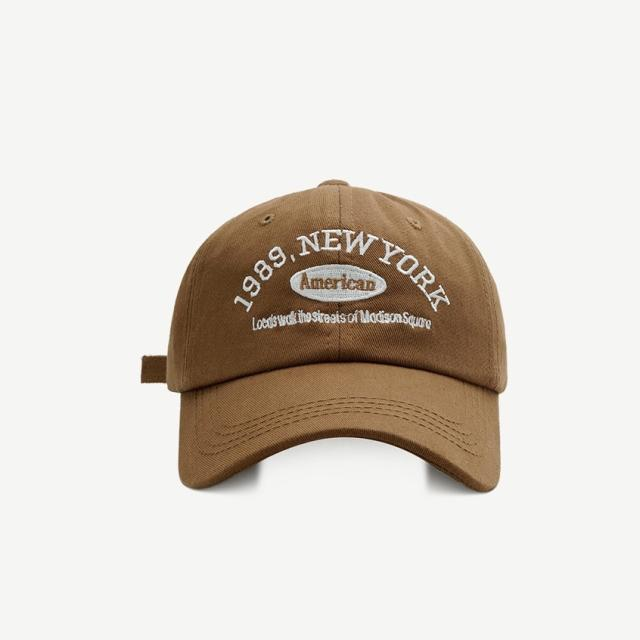Nonhelmet: (138, 175, 511, 496)
